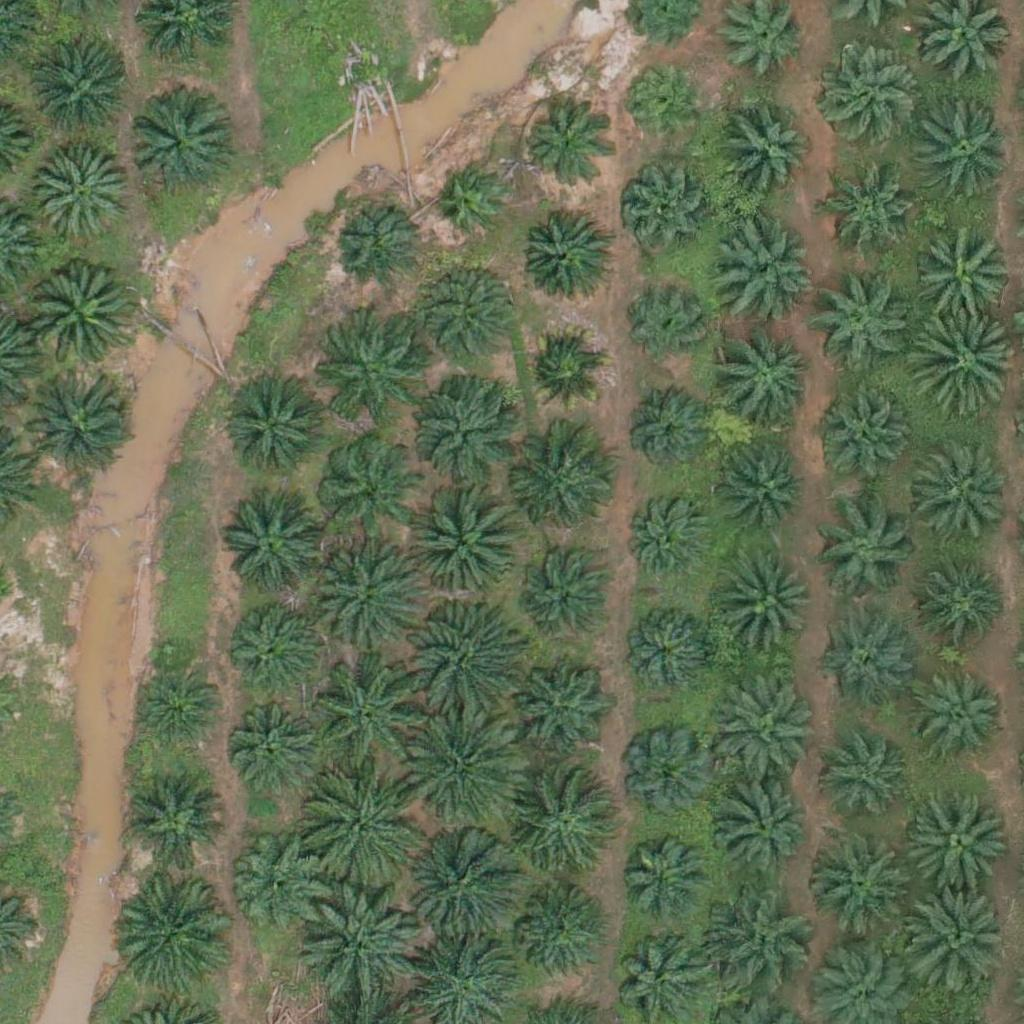Kelapa_Sawit: (117, 873, 230, 987), (301, 890, 414, 1003), (410, 711, 523, 824), (410, 600, 523, 713), (409, 482, 522, 595), (410, 367, 523, 480), (307, 542, 420, 655), (309, 771, 422, 884), (802, 831, 914, 945), (907, 306, 1019, 420), (711, 672, 823, 786), (414, 825, 526, 939), (905, 884, 1017, 997), (705, 881, 817, 994), (900, 785, 1012, 898), (506, 426, 618, 539), (508, 776, 620, 889), (314, 656, 426, 769), (22, 259, 134, 372), (19, 367, 131, 480), (905, 663, 1005, 764), (918, 230, 1018, 331), (810, 278, 910, 379), (812, 388, 912, 489), (817, 732, 917, 833), (717, 324, 817, 425), (617, 724, 717, 825), (509, 664, 609, 765), (311, 324, 411, 425), (317, 436, 417, 537), (223, 590, 323, 691), (223, 498, 323, 599), (229, 372, 329, 473), (125, 770, 225, 871), (126, 96, 226, 197), (33, 145, 133, 246), (818, 44, 918, 145), (906, 441, 1006, 541), (815, 498, 915, 598), (815, 622, 915, 722), (716, 105, 816, 205), (719, 221, 819, 321), (720, 558, 820, 658), (713, 779, 813, 879), (618, 603, 718, 703), (418, 259, 518, 359), (230, 833, 330, 933), (226, 692, 326, 792), (31, 47, 131, 147), (913, 99, 1013, 199), (512, 890, 600, 978), (911, 557, 999, 645), (832, 175, 920, 263), (719, 441, 807, 529), (618, 833, 706, 921), (620, 62, 708, 150), (624, 280, 712, 368), (625, 392, 713, 480), (625, 497, 713, 585), (333, 200, 421, 288), (622, 163, 709, 251), (524, 104, 611, 192), (520, 209, 607, 297), (520, 327, 607, 415), (517, 548, 604, 636), (132, 658, 219, 746), (436, 166, 511, 242)
